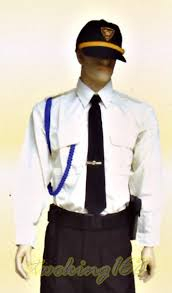F_shirt: (15, 82, 161, 259)
F_tie: (82, 97, 111, 219)
